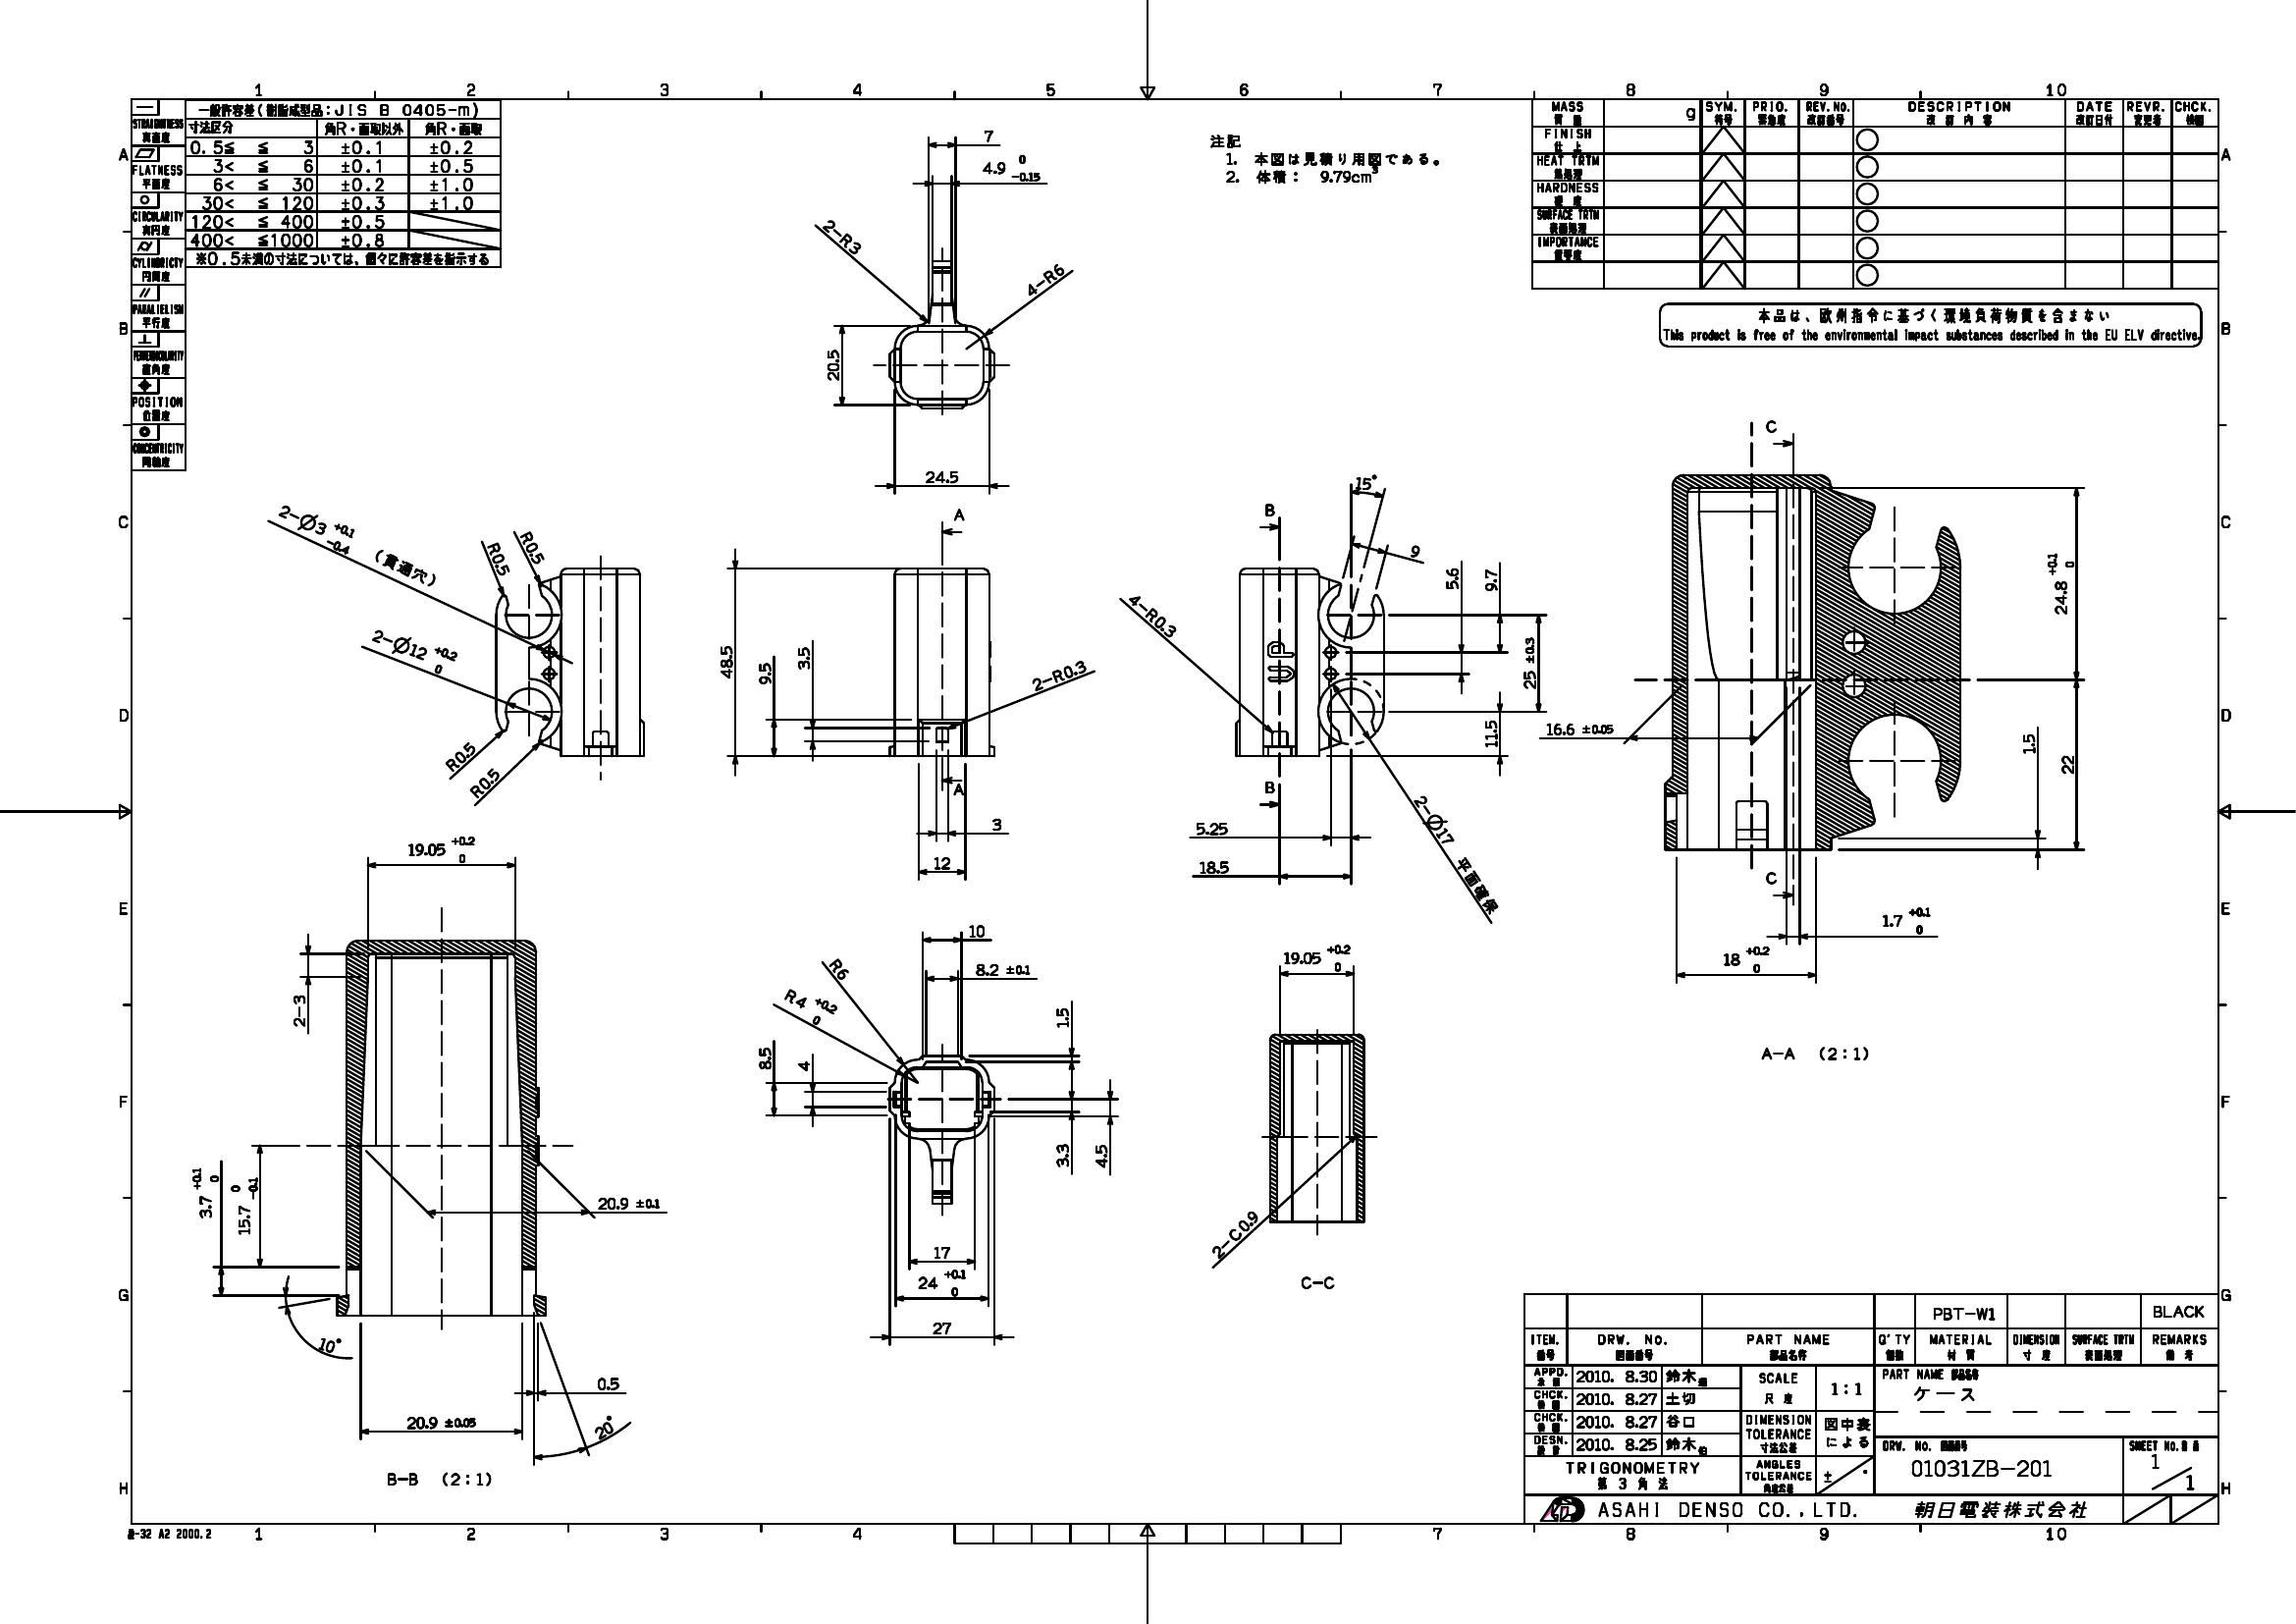anntotation_text: (1658, 302, 2203, 348), (1207, 123, 1446, 192), (383, 1464, 494, 1489), (1753, 1042, 1871, 1065), (121, 1526, 218, 1547), (1440, 872, 1518, 893), (1293, 1271, 1344, 1294), (374, 557, 437, 575), (1260, 499, 1279, 520), (949, 501, 966, 524), (1764, 866, 1776, 891), (1764, 415, 1778, 436), (1260, 777, 1277, 793), (949, 780, 964, 798)
dimension_text: (269, 506, 360, 540), (402, 831, 487, 866), (371, 631, 457, 663), (1282, 939, 1354, 972), (2040, 547, 2073, 615), (780, 988, 840, 1025), (183, 1162, 220, 1220), (978, 149, 1042, 181), (1881, 902, 1943, 933), (228, 1176, 260, 1237), (912, 1265, 970, 1297), (1716, 944, 1773, 974), (402, 1413, 487, 1432), (1398, 803, 1469, 826), (588, 1192, 664, 1211), (1539, 717, 1616, 735), (971, 956, 1035, 977), (1026, 666, 1093, 685), (820, 223, 870, 248), (1116, 605, 1182, 622), (1202, 1227, 1267, 1244), (508, 536, 555, 555), (1022, 269, 1073, 286), (1520, 633, 1535, 689), (288, 986, 309, 1028), (750, 656, 773, 694), (711, 642, 733, 682), (750, 1039, 773, 1076), (466, 768, 511, 786), (1196, 856, 1233, 877), (1051, 1139, 1075, 1171), (1481, 714, 1500, 752), (478, 550, 520, 568), (919, 466, 959, 483), (1191, 816, 1231, 833), (441, 743, 485, 759), (316, 1334, 344, 1359), (824, 341, 840, 383), (587, 1418, 620, 1438), (963, 917, 993, 939), (928, 1315, 956, 1336), (826, 960, 859, 977), (1051, 1000, 1070, 1030), (929, 851, 954, 874), (792, 647, 812, 675), (1440, 562, 1460, 591), (592, 1371, 622, 1388), (1479, 564, 1498, 591), (2020, 729, 2040, 756), (928, 1241, 956, 1258), (1351, 471, 1375, 490), (1089, 1141, 1107, 1167), (1405, 536, 1425, 559), (2059, 750, 2076, 775), (977, 123, 996, 142), (987, 814, 1007, 831), (791, 1053, 810, 1070)
object: (1660, 475, 1964, 849), (334, 939, 548, 1316), (1233, 566, 1388, 758), (495, 568, 646, 758), (1267, 1033, 1367, 1225), (894, 566, 989, 759), (885, 1051, 996, 1209), (887, 258, 996, 408)
title_block: (1521, 1295, 2220, 1524), (1530, 97, 2219, 292), (183, 98, 501, 267), (128, 98, 186, 473)
